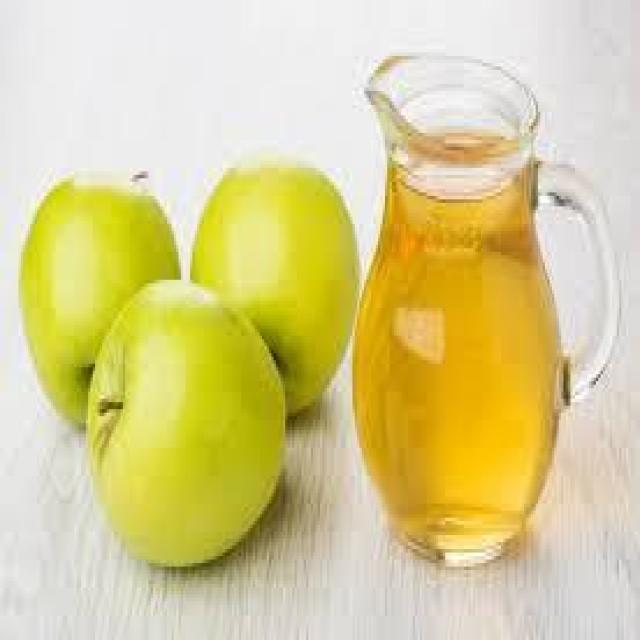maca: (17, 158, 360, 566), (350, 49, 619, 567), (84, 276, 285, 567), (188, 161, 359, 416), (16, 168, 181, 427)
